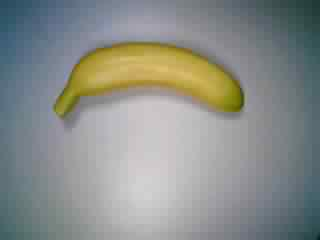banana: (50, 39, 250, 129)
